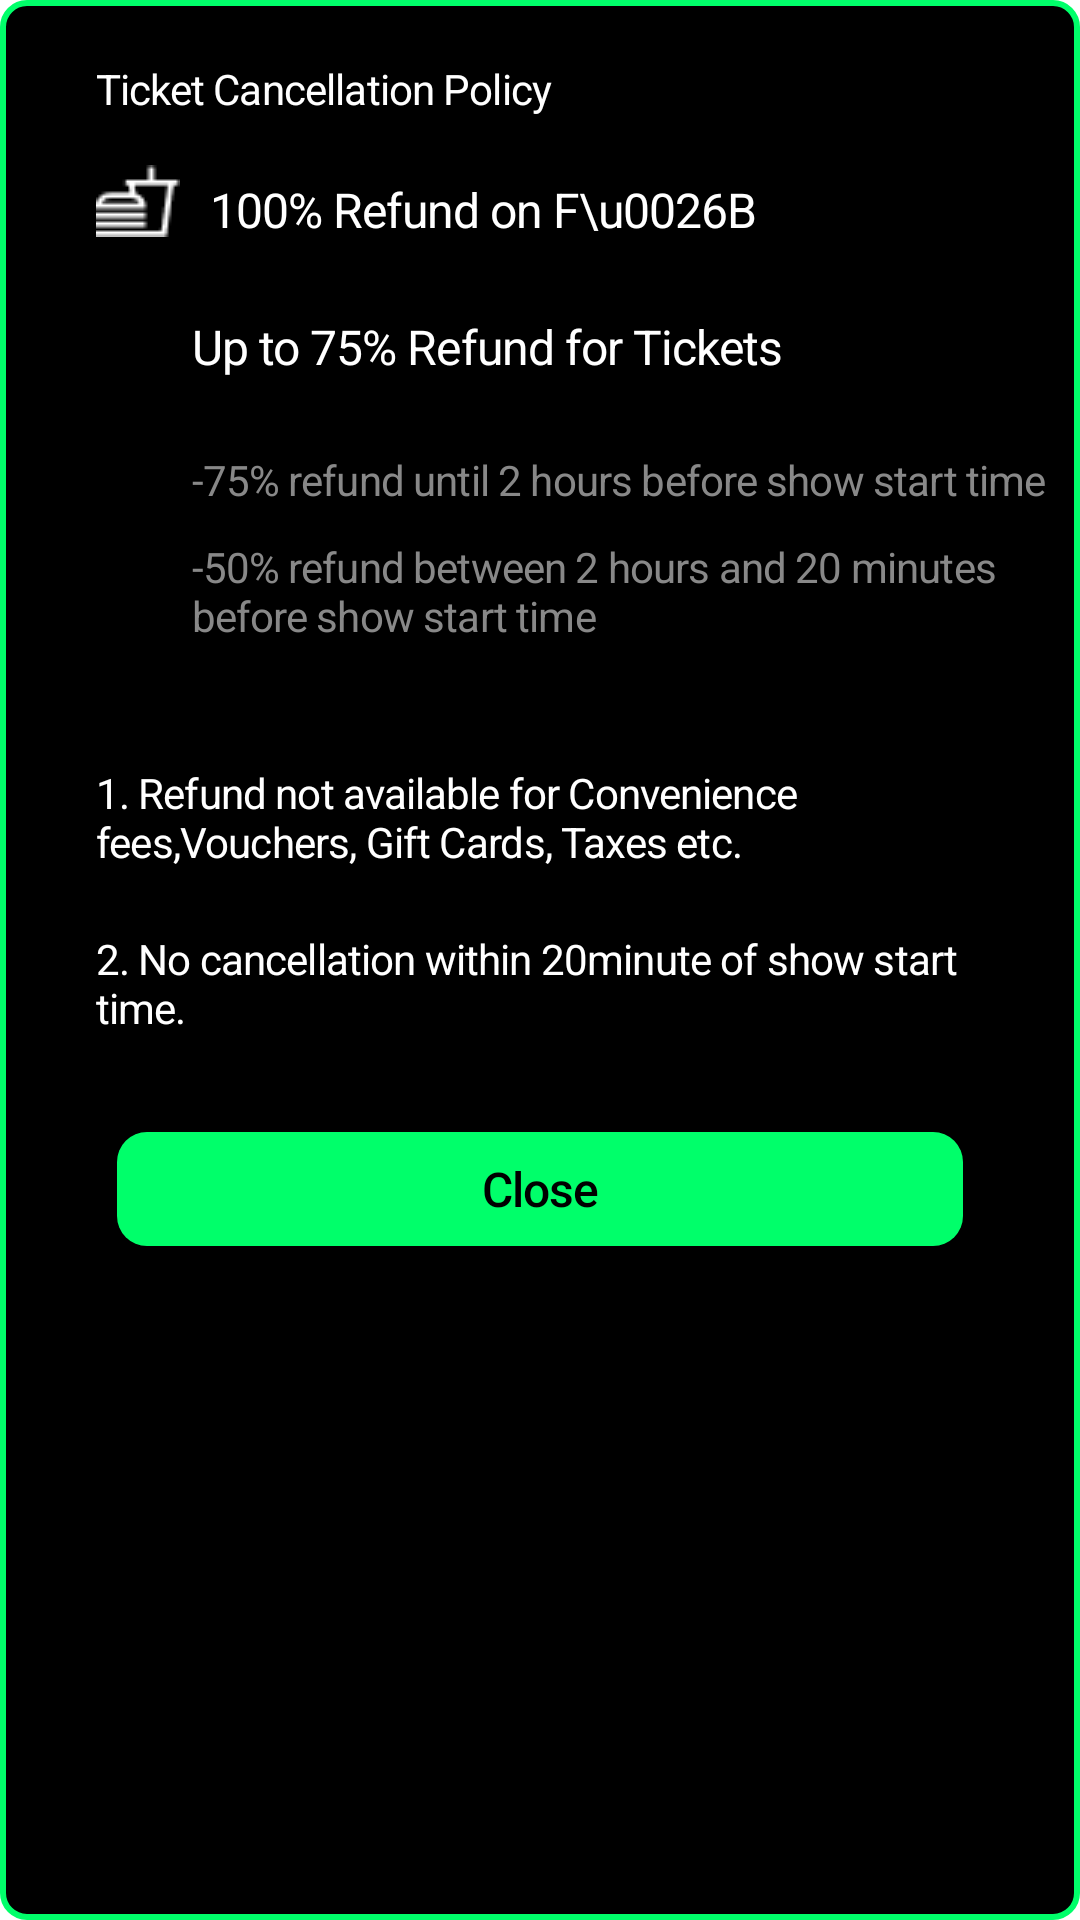

Named icons in this screenshot (1080px x 1920px) and their bounding boxes, (x1, y1, x2, y2):
food cart: (96, 165, 180, 237)
